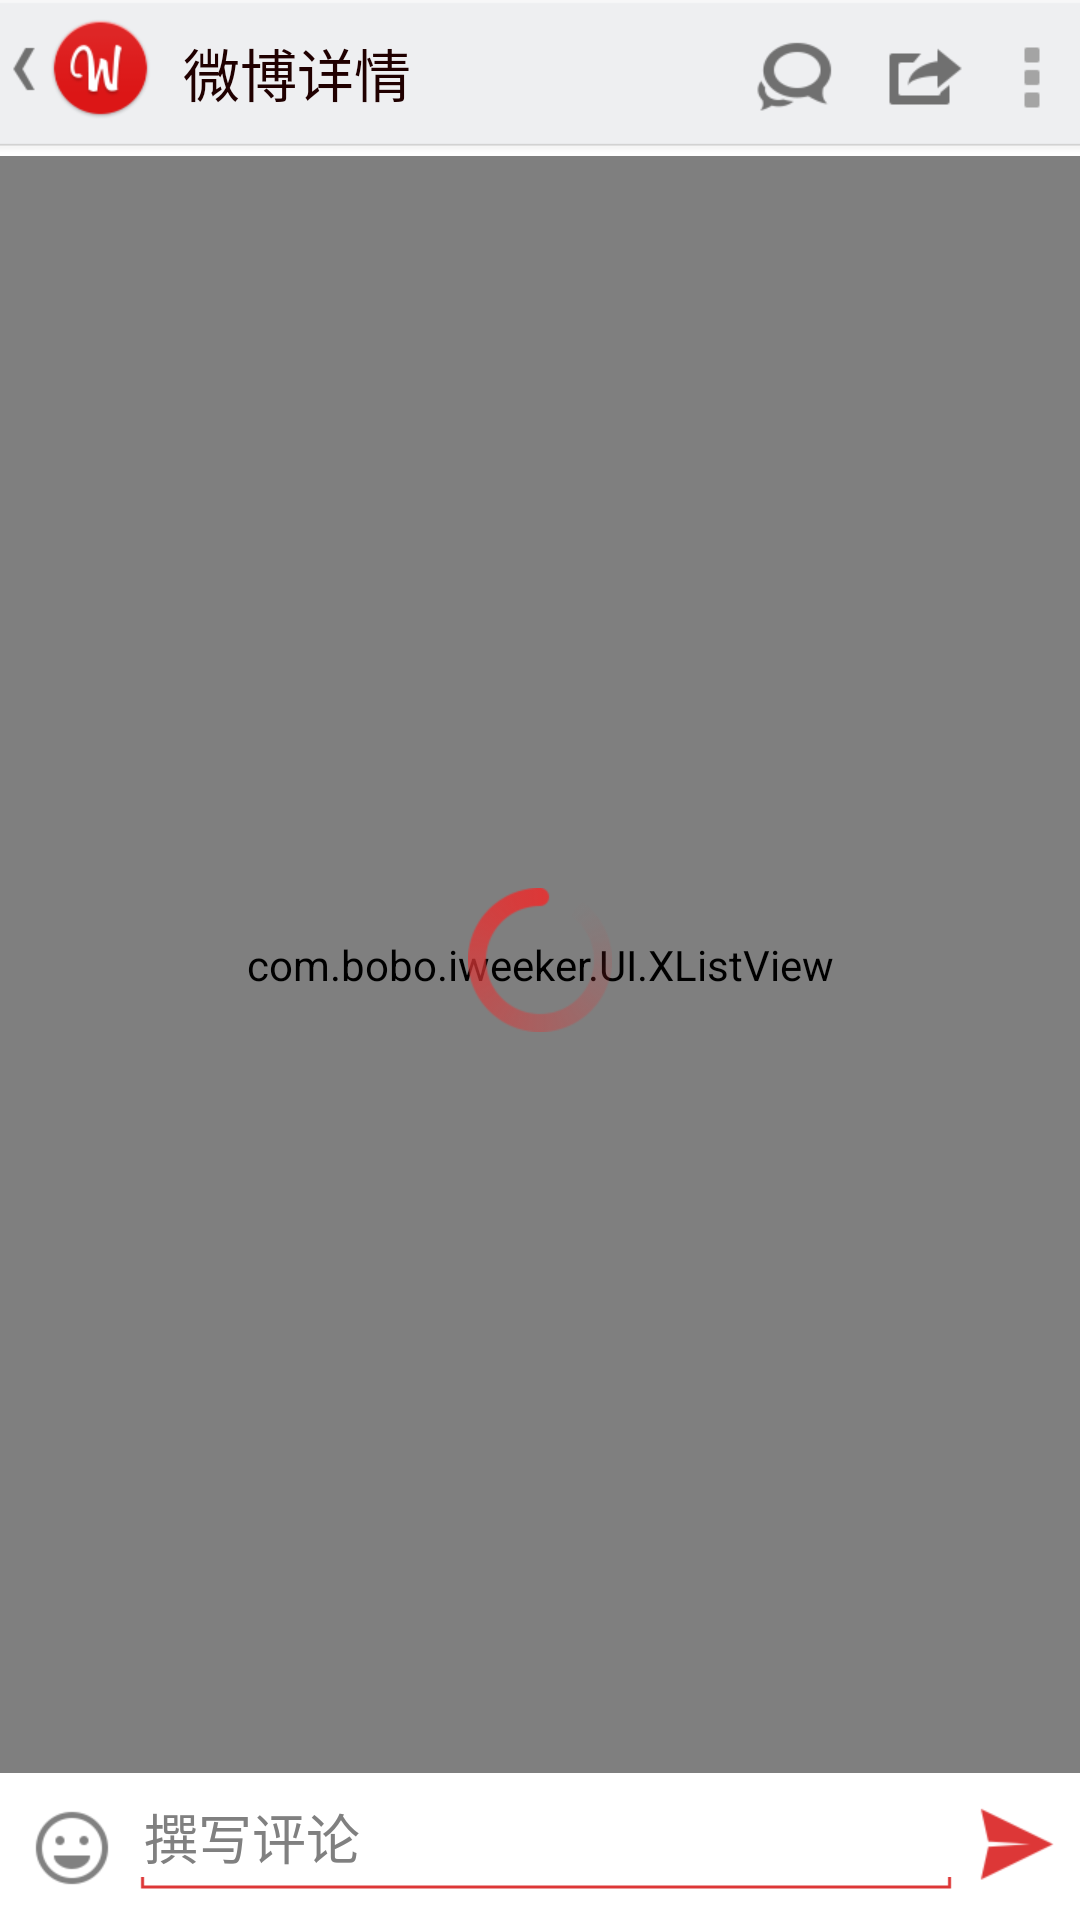

Screen size 1080*1920. Icon name, then its center in pixels as (x=x, y=y):
activity back: (x=24, y=69)
comment: (x=794, y=77)
profile more: (x=1032, y=77)
repost: (x=925, y=77)
